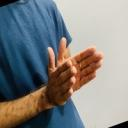hand: (57, 37, 103, 93), (47, 46, 77, 107)
